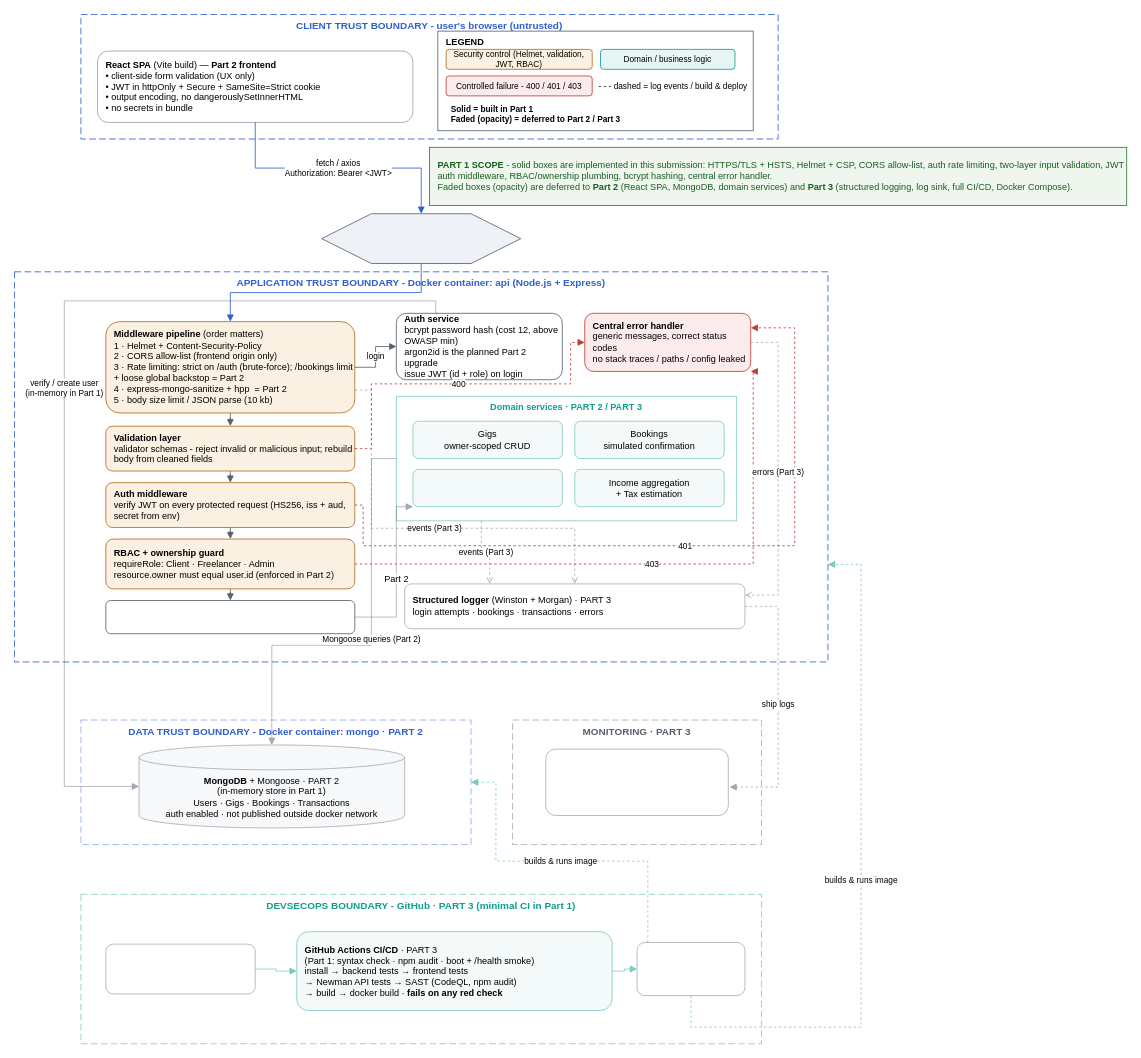
The diagram is 1141 pixels wide and 1058 high, and some of its shapes have lost their labels. The centre of each missing label's shape, as x and y in pixels:
Controllers → Services (thin routes): point (230, 617)
docker-compose · PART 3 api + client + mongo private network: point (690, 969)
GitHub repository branch protection: point (180, 968)
HTTPS / TLS 1.2+ local self-signed SSL cert · HSTS no plain-HTTP listener at all: point (421, 238)
Log sink · PART 3 cloud logging platform (dashboards + alerts): point (636, 781)
Transactions one record per booking: point (487, 488)
